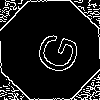G: (25, 25, 82, 78)
